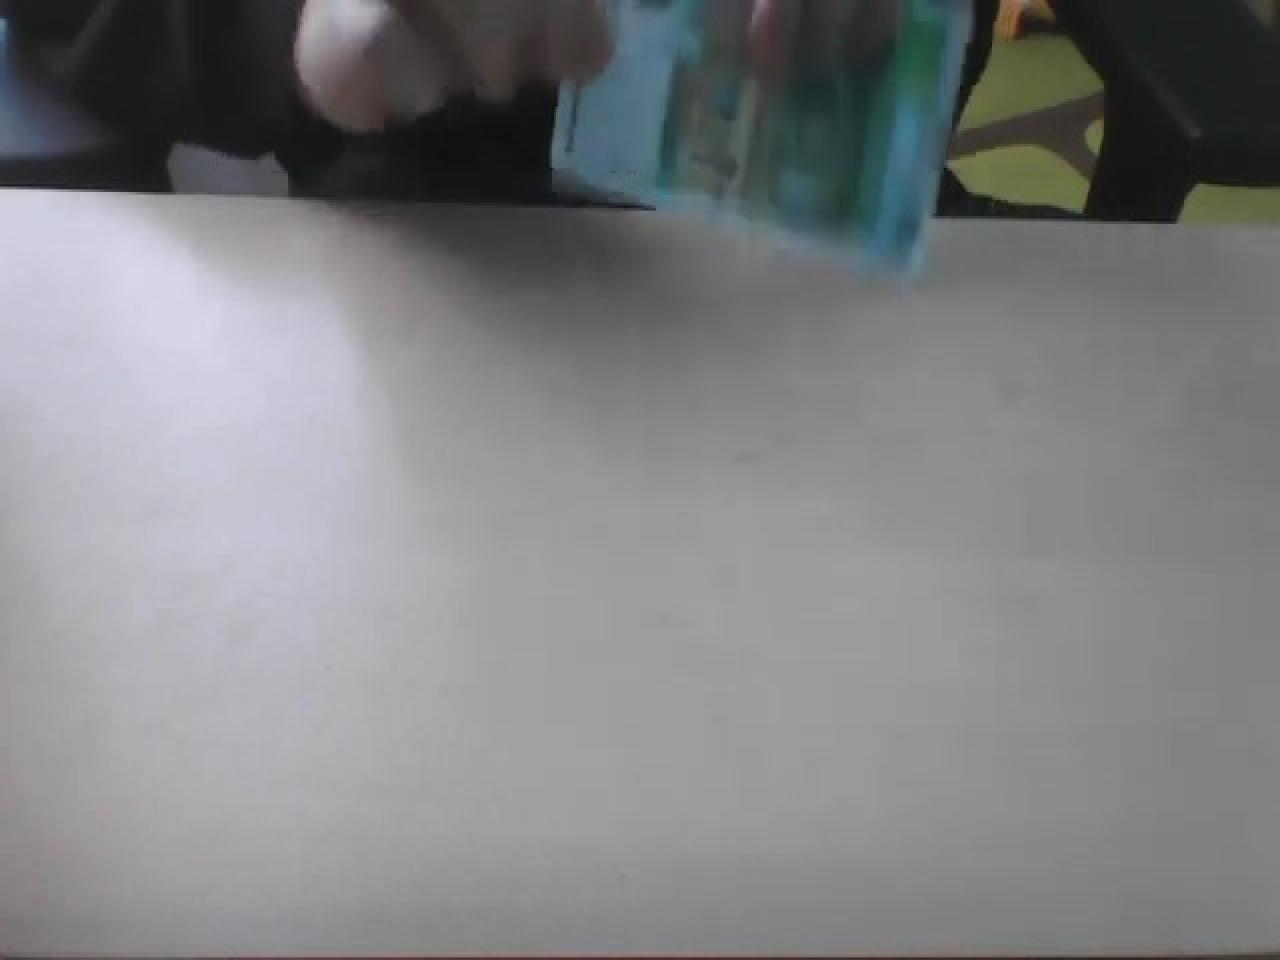100leva: (4, 0, 1274, 267), (548, 0, 990, 277)
